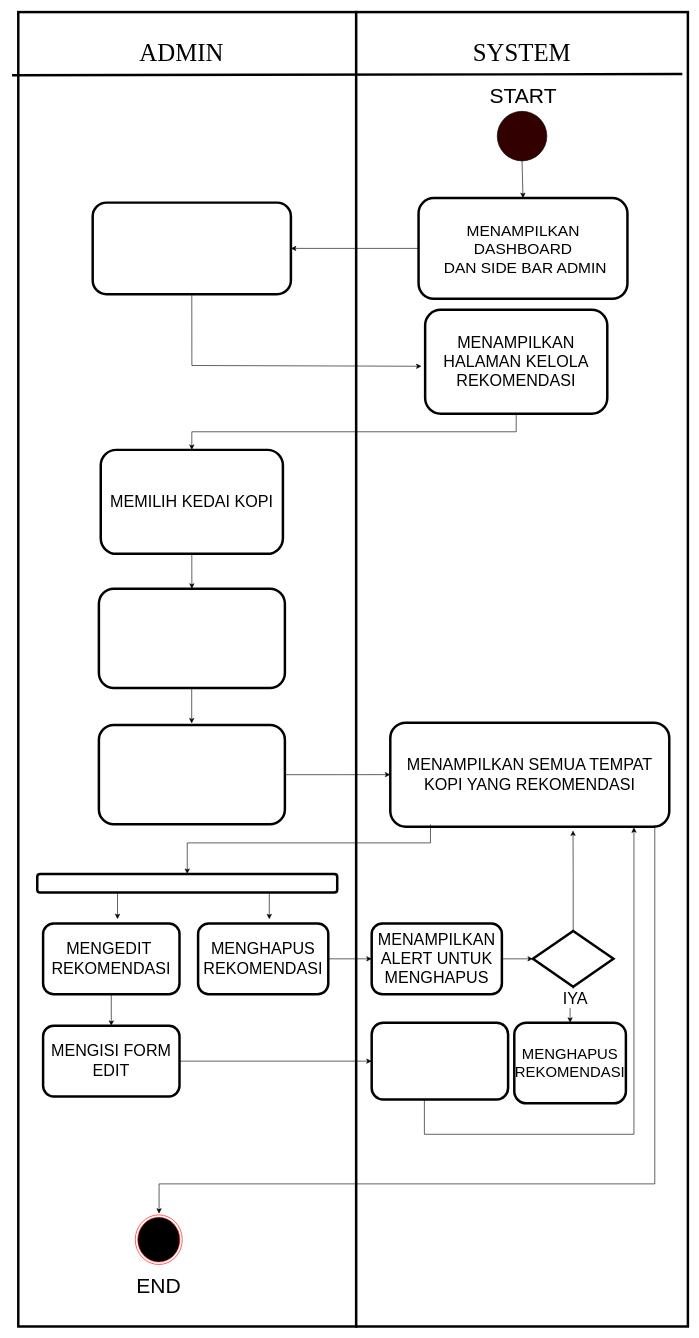
Some shapes in this 699 by 1338 pixel diagram are drawn without their labels. Here are the shapes that lost their labels. From the top down, the centre of each, then its label:
At point (191, 248): "MENGAKSES KELOLA REKOMENDASI".
At point (191, 638): "MEMILIH EDISI".
At point (191, 774): "SUBMIT".
At point (439, 1060): "MENGUBAH ISI REKOMENDASI".
